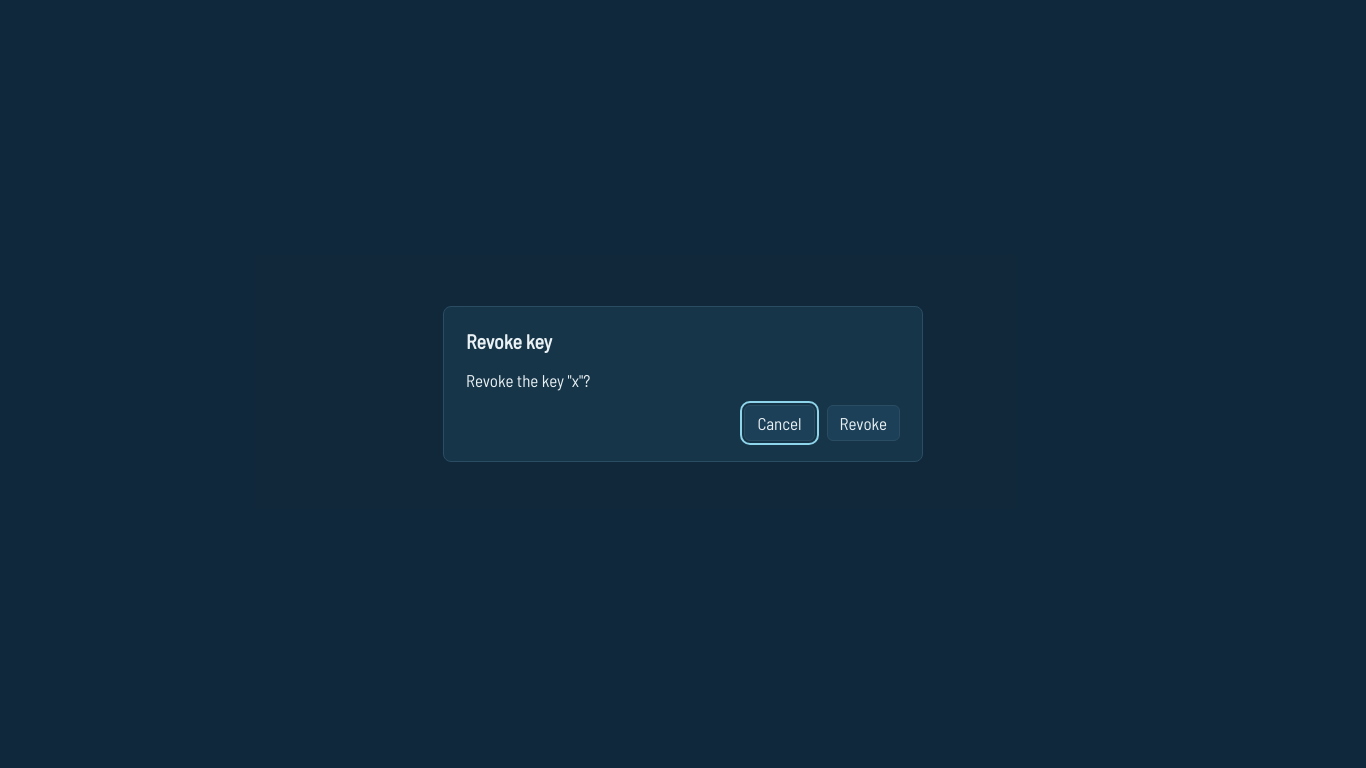
ActionDialog › keeps a failure inside, with the sentence the caller gives for its status
This screenshot has width=1366, height=768.
Click the button "Revoke": (863, 423) [826, 404, 900, 441]
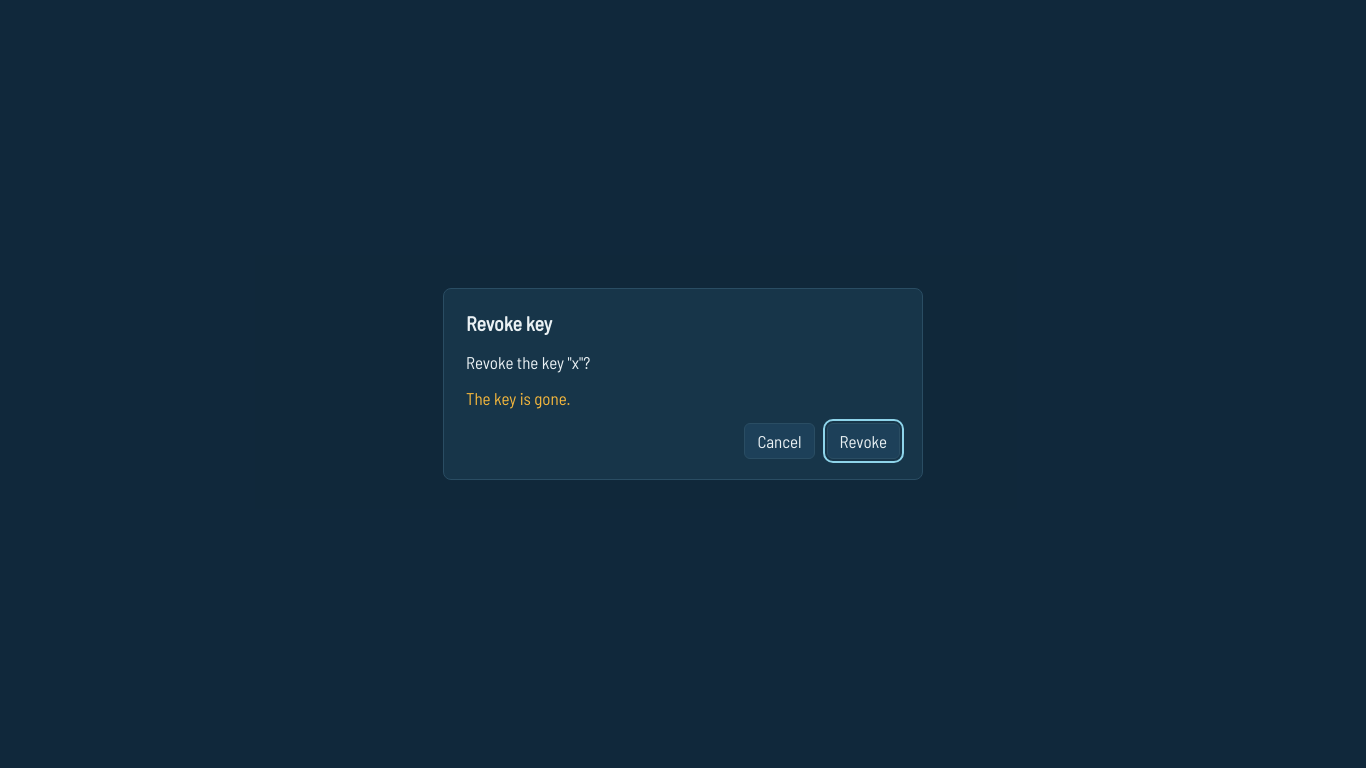
Check: the button "Revoke" is enabled, box [826, 423, 900, 459]
Check: the message reads "The key is gone.", box [466, 388, 570, 408]
